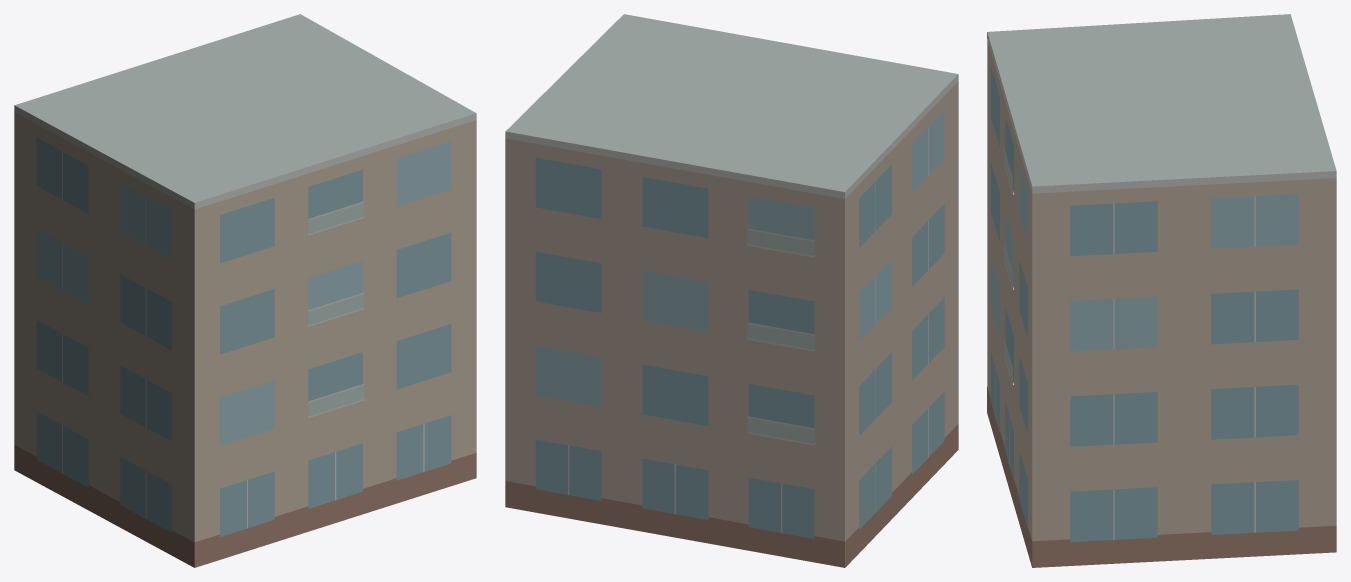
The model's file is survey-upis-32673179.glb.
3 views of the same model, side by side, from view 1: azimuth 30°, elevation 25°; view 2: azimuth 150°, elevation 25°; view 3: azimuth 270°, elevation 25° (orthographic). The views are drawn at different scales.
Visible parts, largest first — view 1: survey-upis-32673179.tmp; view 2: survey-upis-32673179.tmp; view 3: survey-upis-32673179.tmp.
Boxes of the visible parts, left/top/right/bottom form: survey-upis-32673179.tmp: left=14, top=14, right=476, bottom=567; survey-upis-32673179.tmp: left=505, top=14, right=958, bottom=567; survey-upis-32673179.tmp: left=987, top=14, right=1336, bottom=567.
Bounding box in the file's own units: 12.82 × 13.2 × 10.97.
